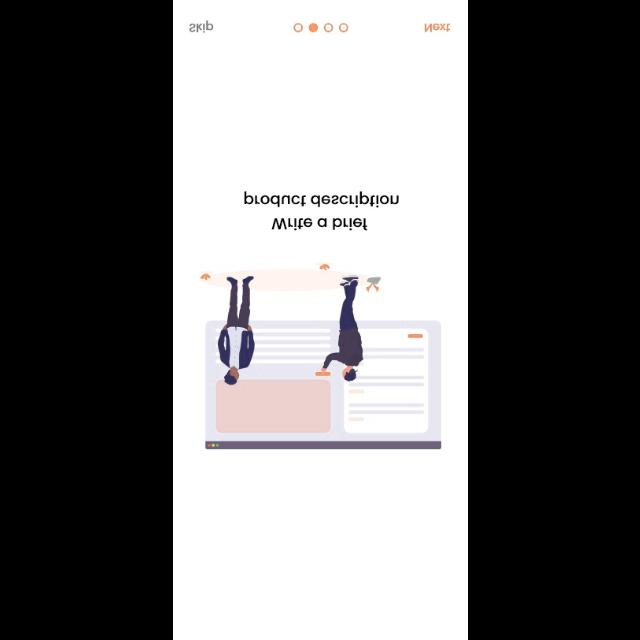image: (200, 263, 442, 449)
pageindicator: (294, 22, 348, 34)
text: (243, 190, 399, 232), (188, 20, 214, 34), (424, 23, 450, 33)
